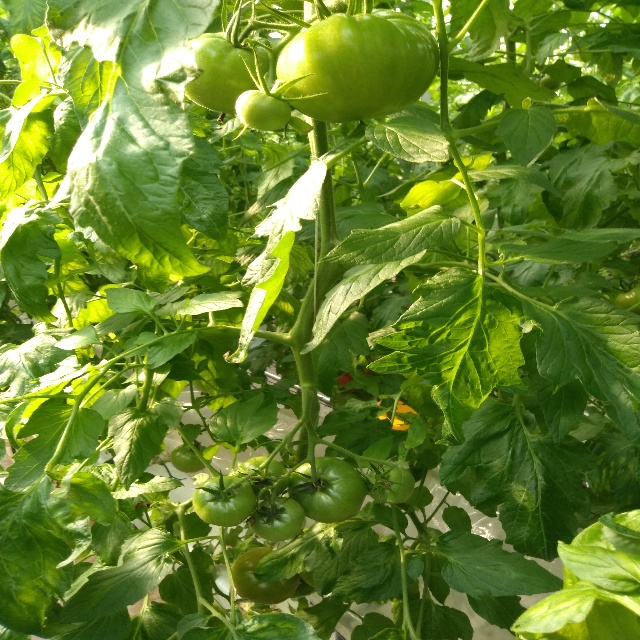b_green: (275, 7, 440, 124), (178, 31, 285, 115), (287, 456, 369, 523), (230, 547, 299, 605), (193, 476, 256, 527), (248, 496, 306, 542), (236, 457, 290, 501), (236, 90, 291, 131), (364, 466, 415, 505), (170, 443, 212, 473)
